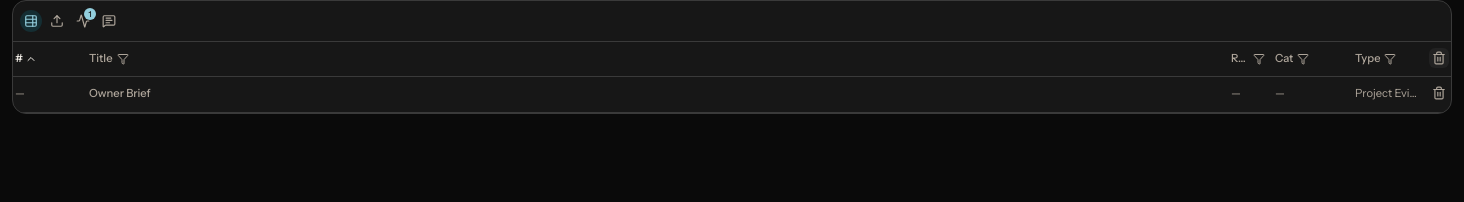
it: DocumentRepositoryPanel project pulse › shows attention items above the document list when pulse is opened
Click the button named "correspondence" at (83,21), box [71,9,95,33]
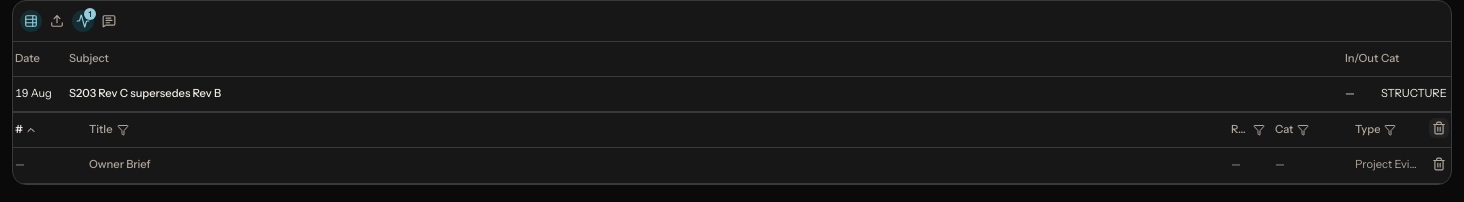
Check: the table "# Title Rev Cat Type — Owner Brief — — Project Evidence" is shown, box [13,113,1451,184]
Check: the text "S203 Rev C supersedes Rev B" is shown, box [69,86,221,100]
